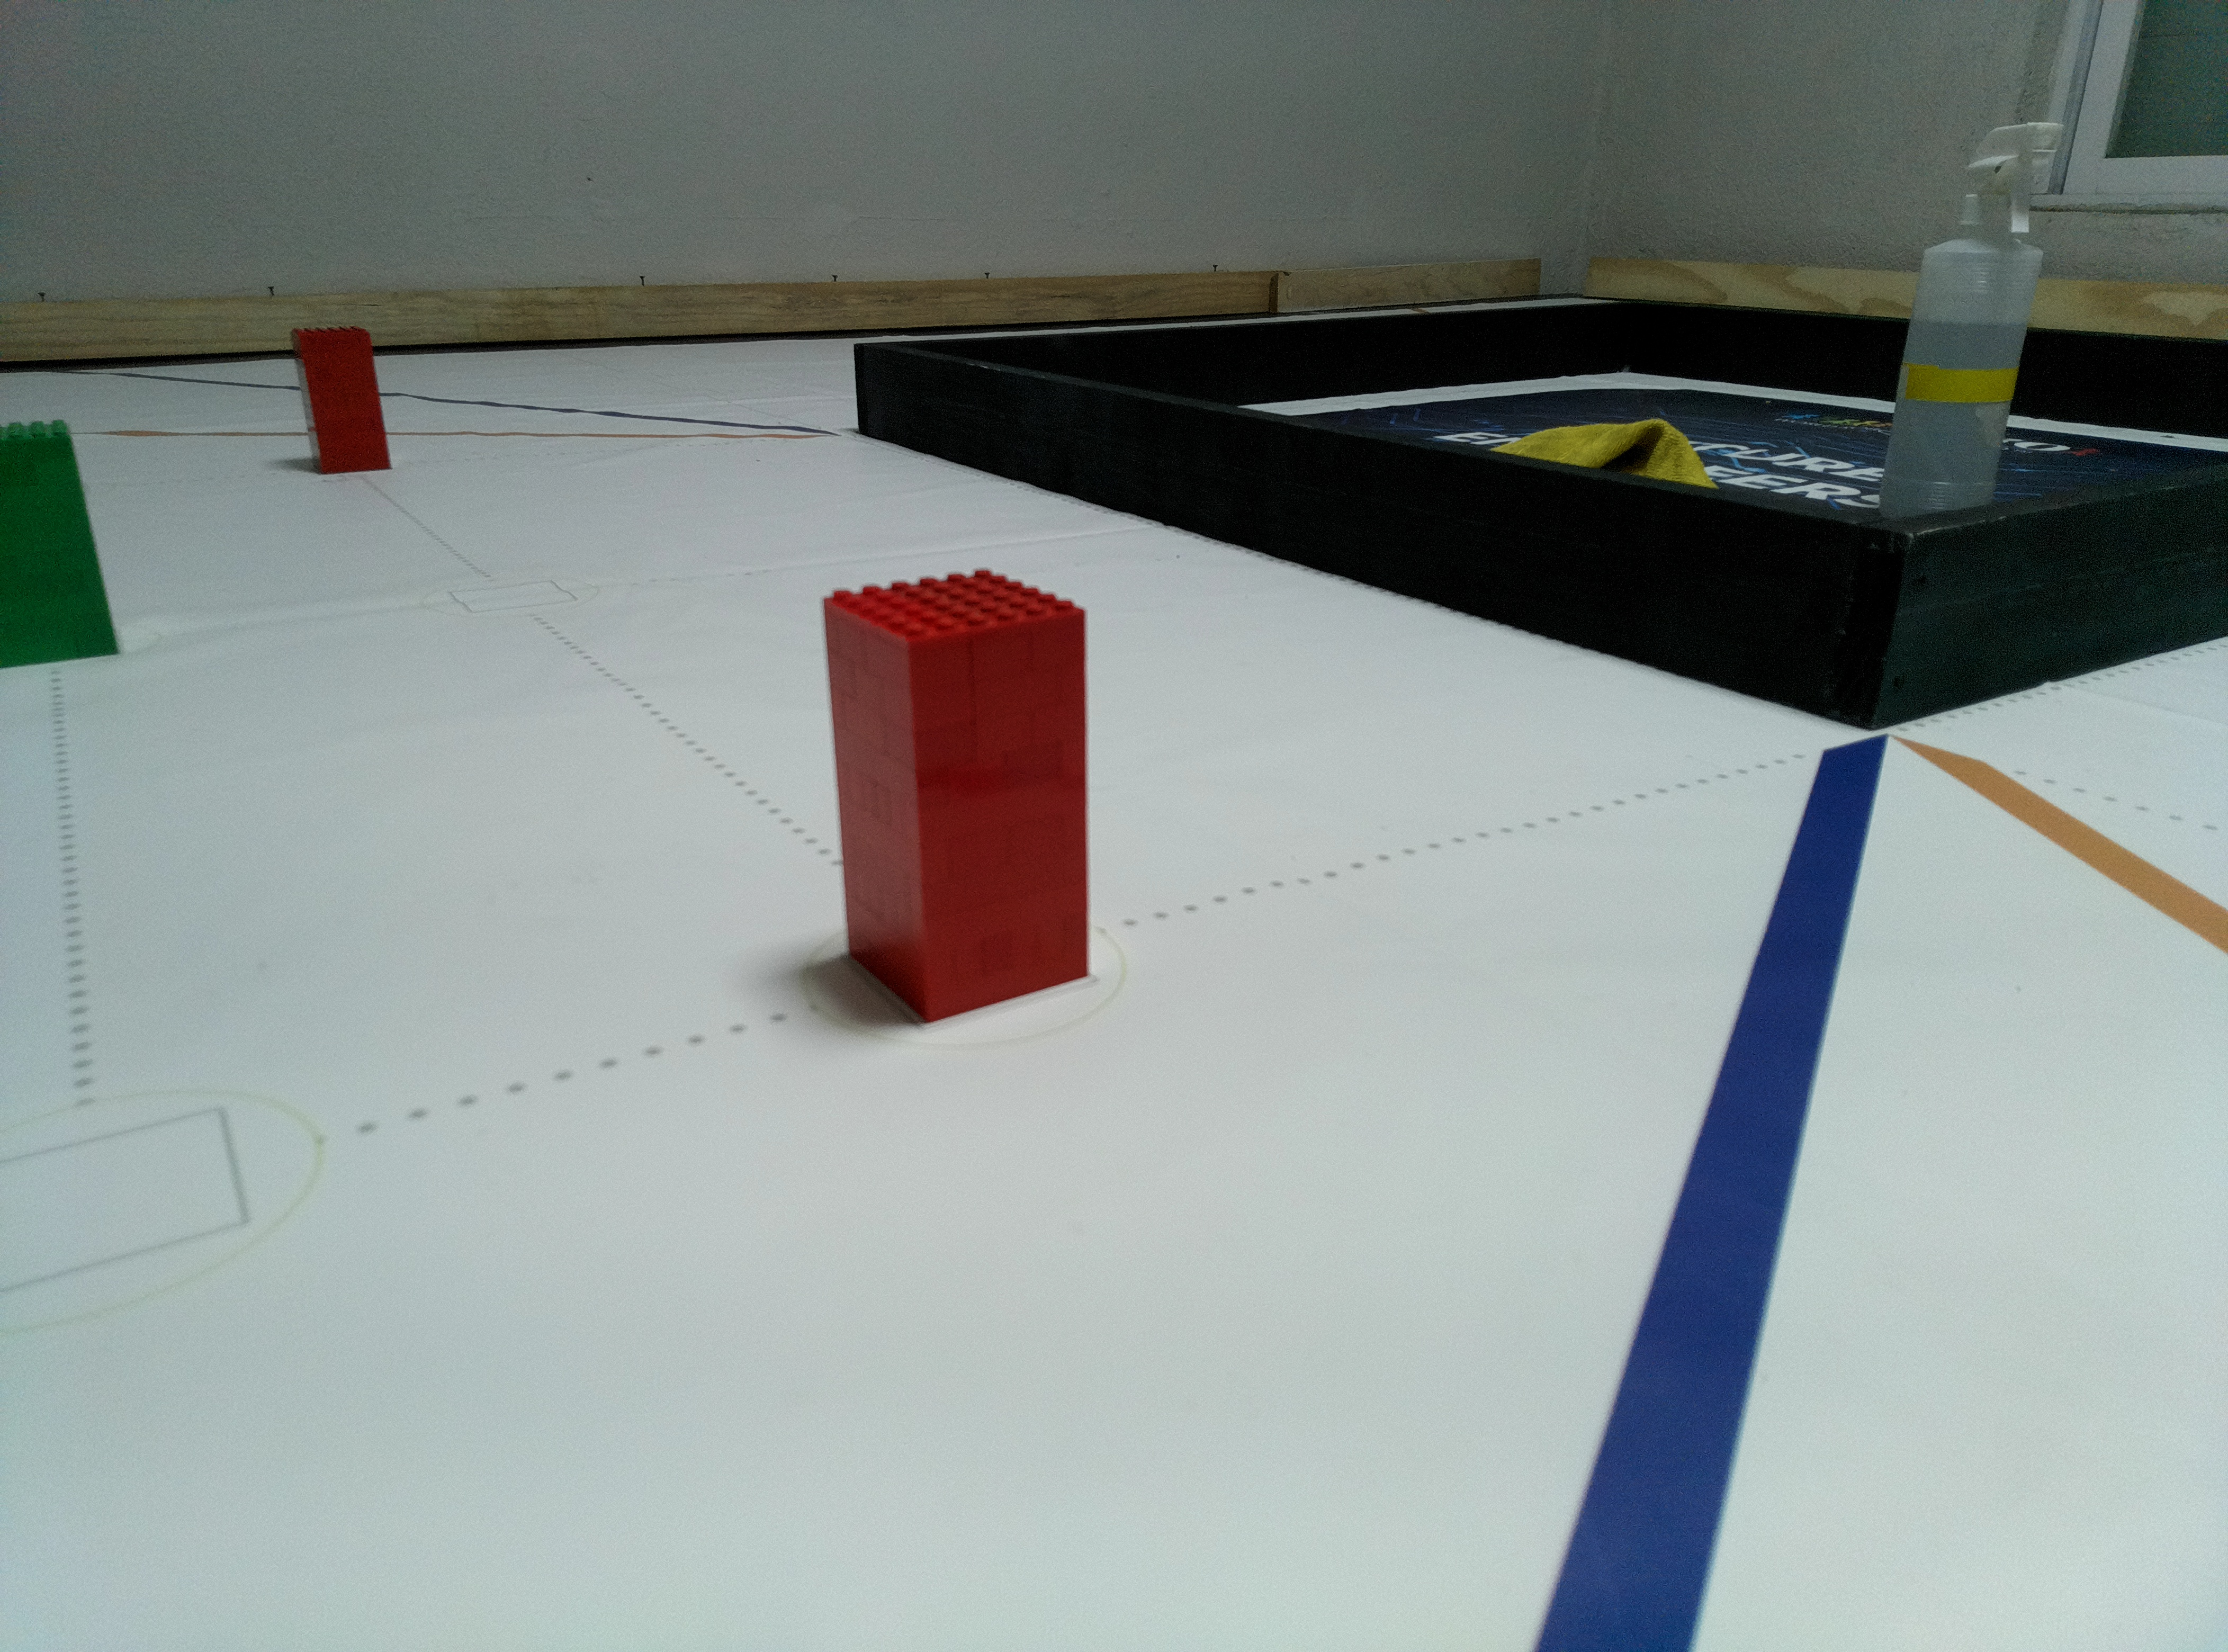greenbox: (0, 418, 121, 678)
redbox: (822, 567, 1088, 1020), (290, 324, 394, 475)
